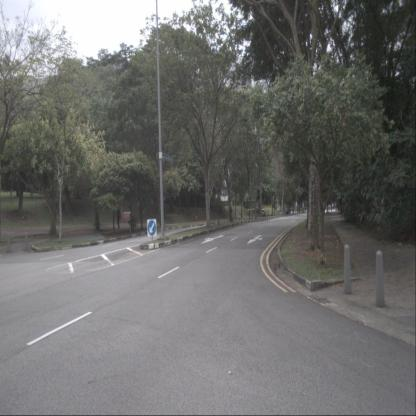human-pedestrian-adult: (116, 206, 120, 229)
